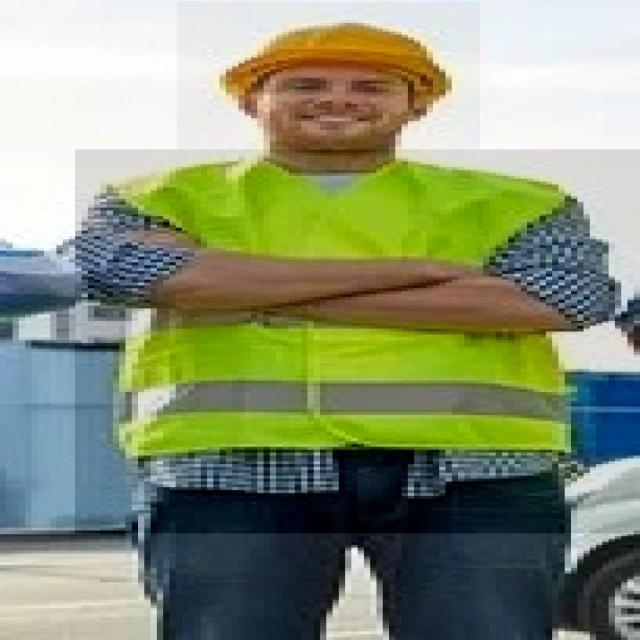Helmet: (177, 2, 480, 172)
Safety Vest: (75, 150, 640, 534)
